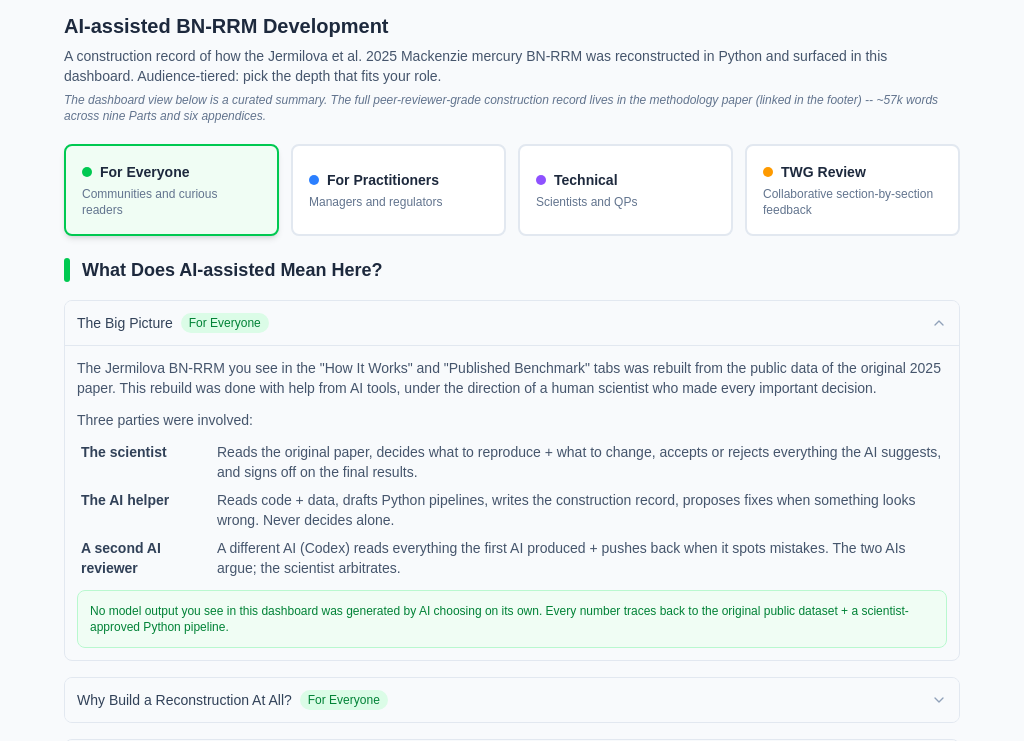
Scenario: AiAssistedDevelopmentView › collapsing a tier (clicking the active button) hides its content
Expected: the text "Three parties were involved:" is shown, [77,412,253,428]
Click the button with test id "ai-assisted-tier-everyone": (172, 190) [64,144,279,236]
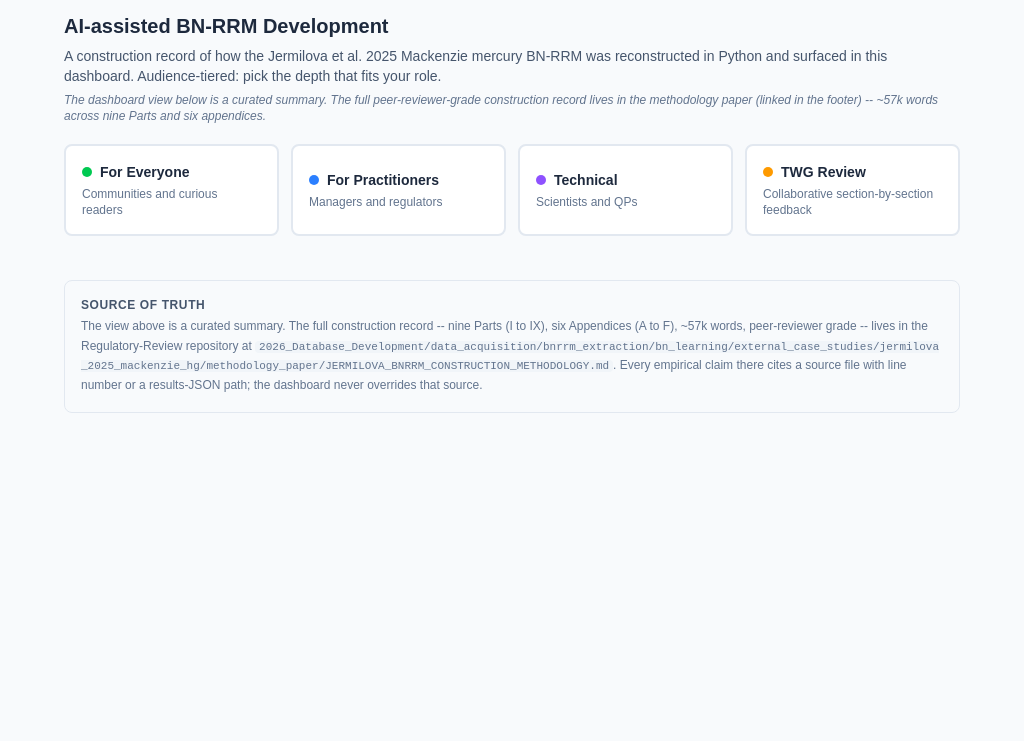
Expected: the text "Three parties were involved" is gone
